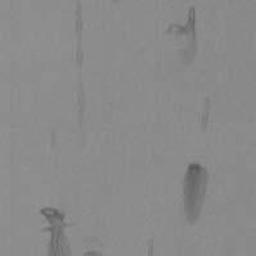Oil spot: (167, 6, 196, 62), (183, 162, 209, 224), (40, 207, 70, 256), (84, 251, 102, 256), (202, 115, 208, 125)
